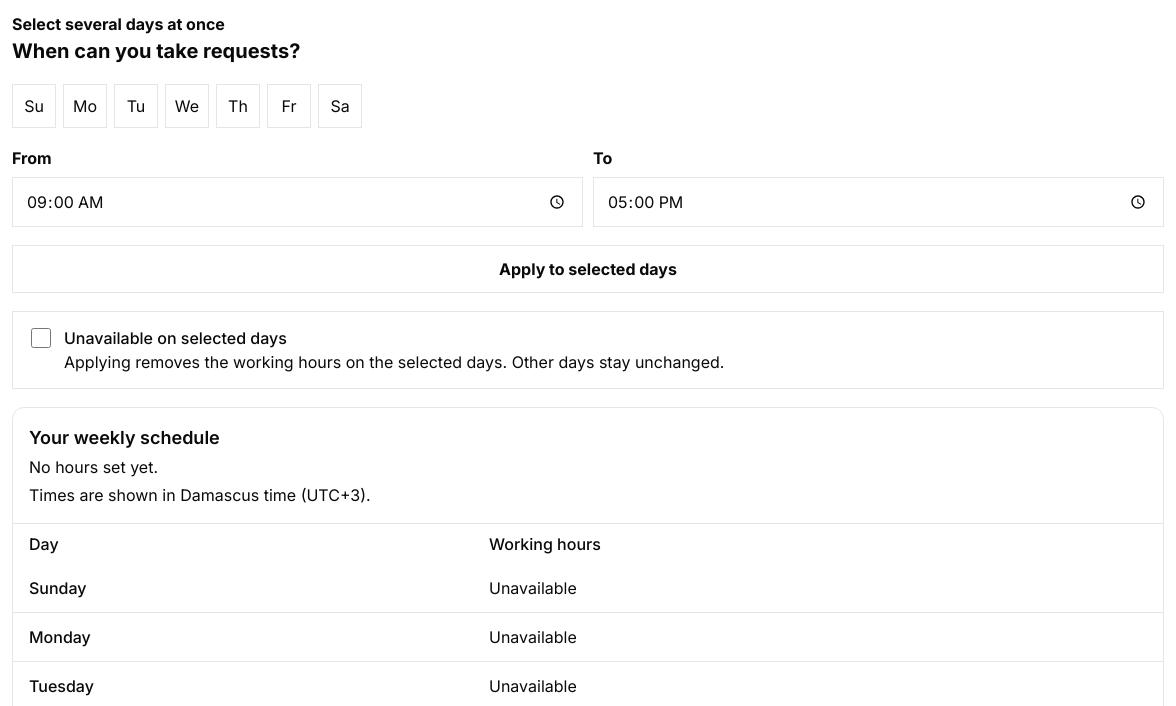
Scenario: availability hydration through the real draft query and serial autosave › retains the day selection when Apply is invalid, even across a refetch
Click the button with test id "day-toggle-2" at [136, 106], box [114,84,158,128]
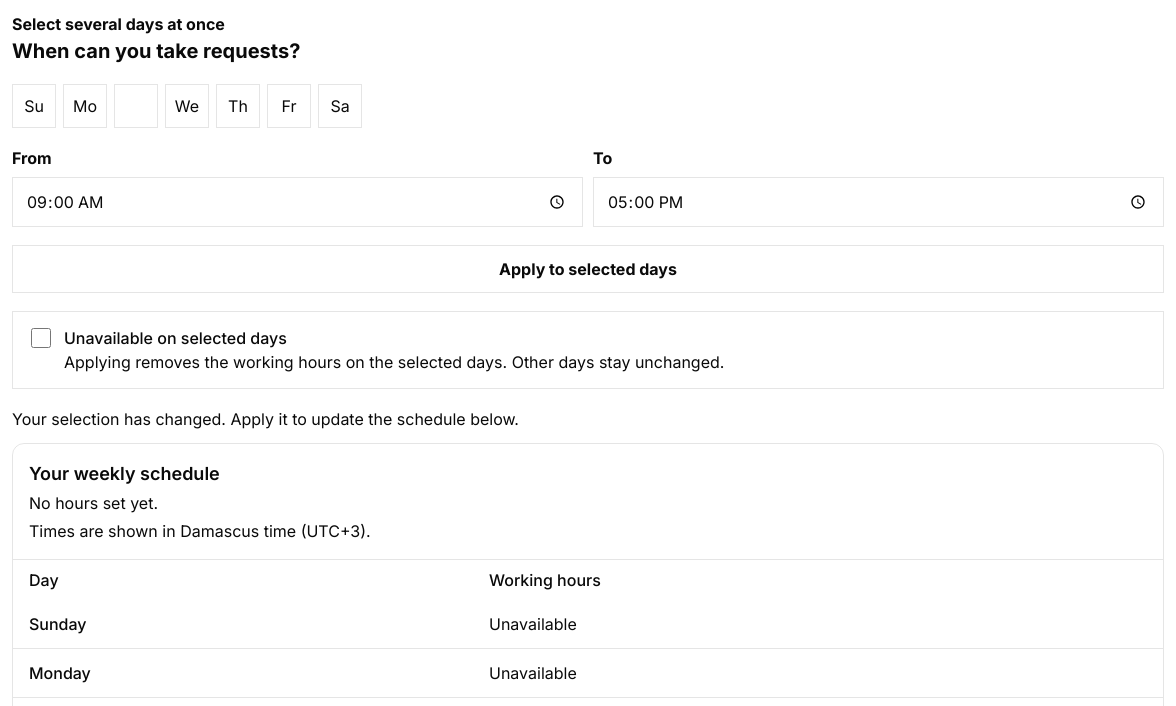
Replace the text in the time field with test id "bulk-start" with "18:00" at [298, 202], box [12,177,583,227]
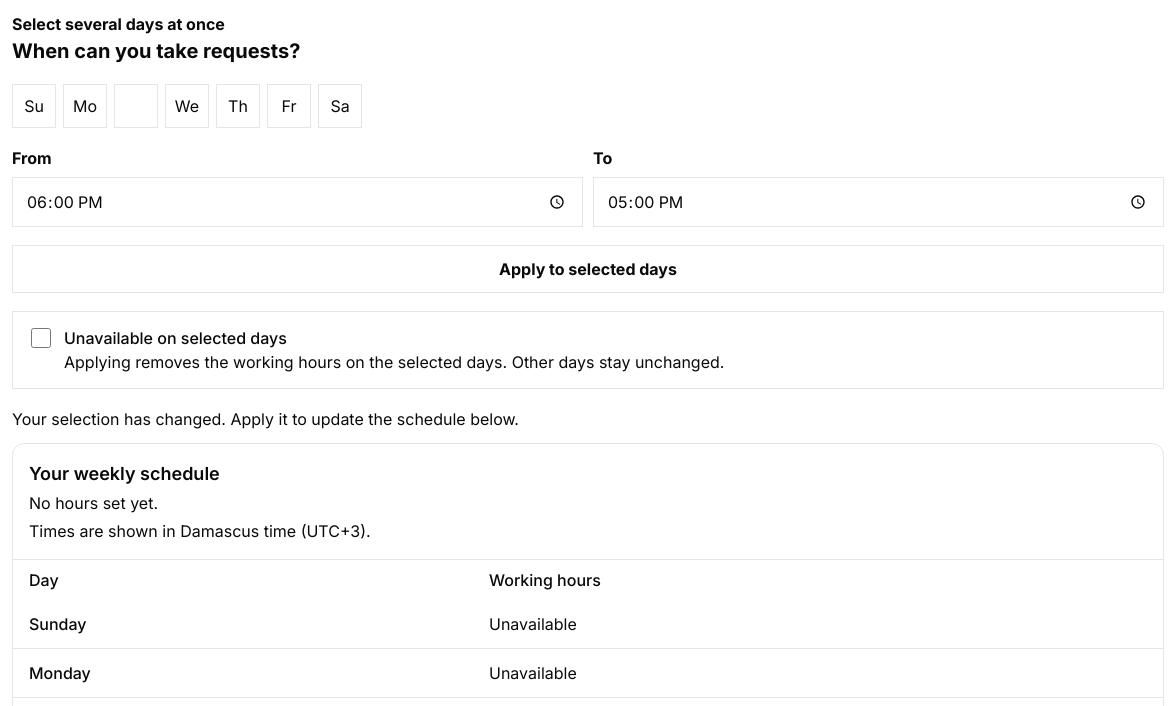
Click the button with test id "apply-to-selected" at [588, 269], box [12,245,1164,293]
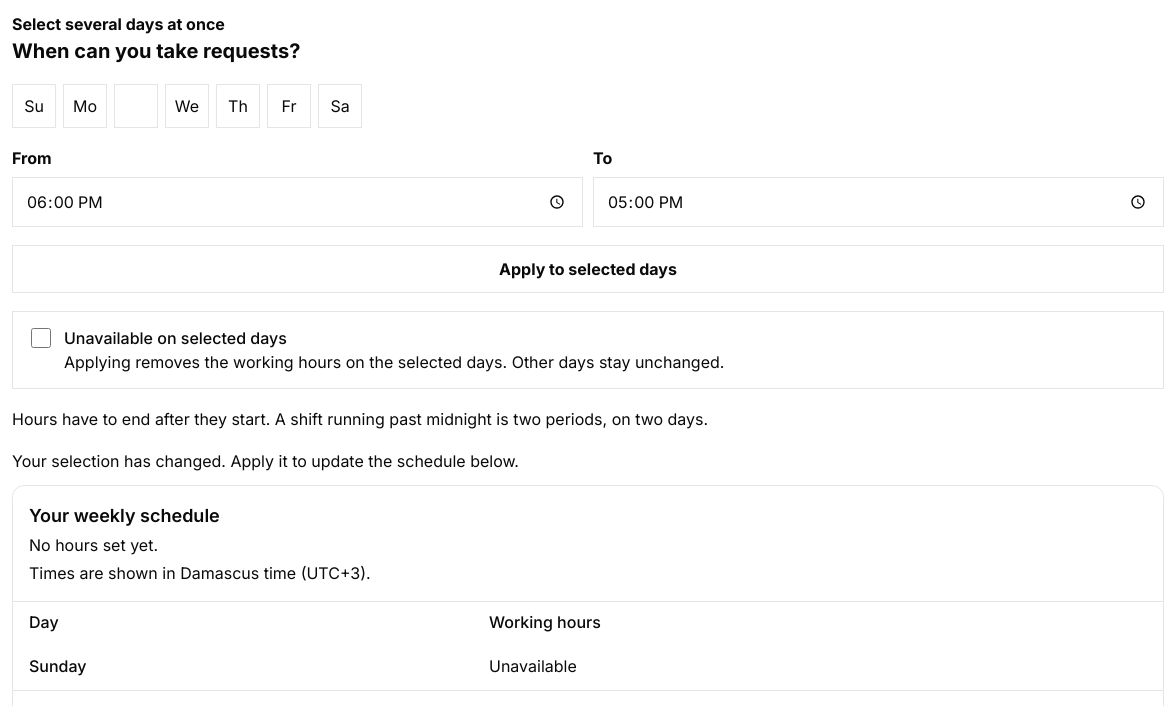
expect the message with test id "availability-rejected" is shown: met, box [12,409,708,429]
